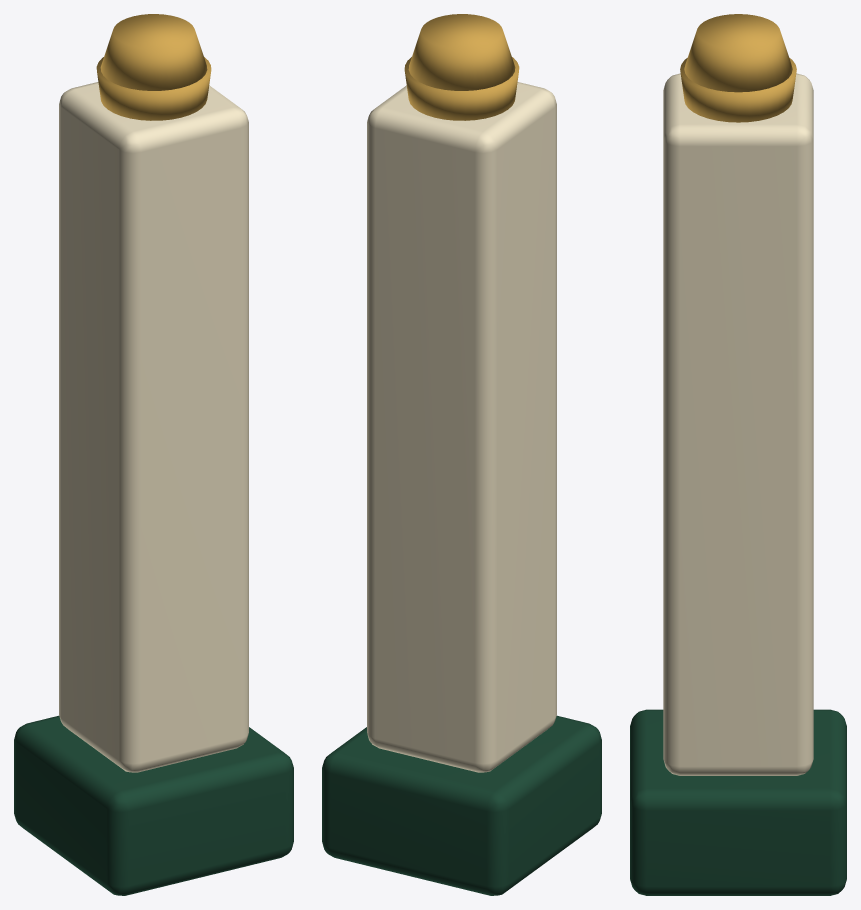
File: street_bollard.glb
3 views of the same model, side by side, from view 1: azimuth 30°, elevation 25°; view 2: azimuth 150°, elevation 25°; view 3: azimuth 270°, elevation 25° (orthographic).
Parts seen in each view (by area): view 1: Post, Plinth, Cap, CapRing; view 2: Post, Plinth, Cap, CapRing; view 3: Post, Plinth, Cap, CapRing.
Boxes of the visible parts, box(x1,y1,x2,y2) form: Post: box(59, 82, 248, 772); Plinth: box(14, 715, 293, 895); Cap: box(100, 14, 207, 90); CapRing: box(96, 57, 211, 120); Post: box(367, 82, 556, 772); Plinth: box(322, 715, 601, 895); Cap: box(408, 14, 515, 90); CapRing: box(404, 57, 519, 120); Post: box(663, 73, 813, 775); Plinth: box(630, 709, 846, 895); Cap: box(684, 14, 792, 92); CapRing: box(680, 58, 796, 122).
Size of the model in its own units: 0.26 by 1.09 by 0.26.
